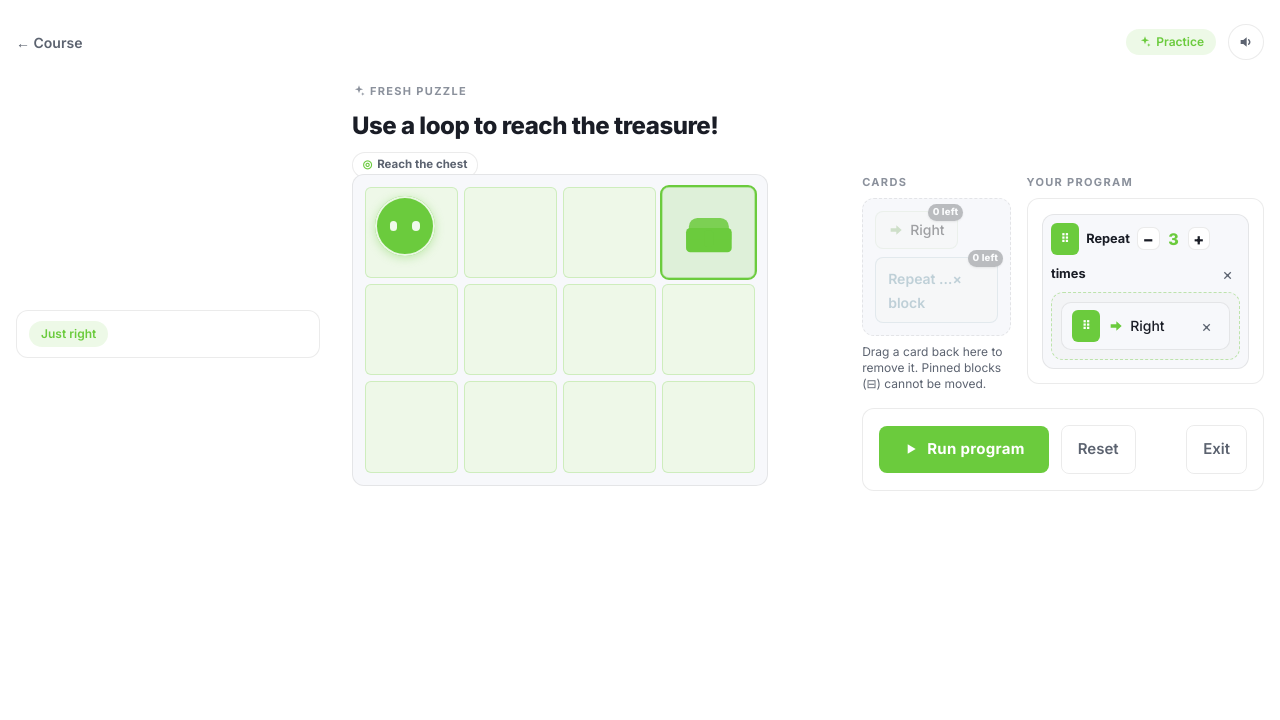
PracticePage (one-ahead prefetch) › serves a prefetched puzzle on "Next puzzle" without a second loading state
Check: the text "Repeat …× block" is shown, box [888,270,962,311]
Click the button "Run program": (964, 449) [879,426,1049,473]
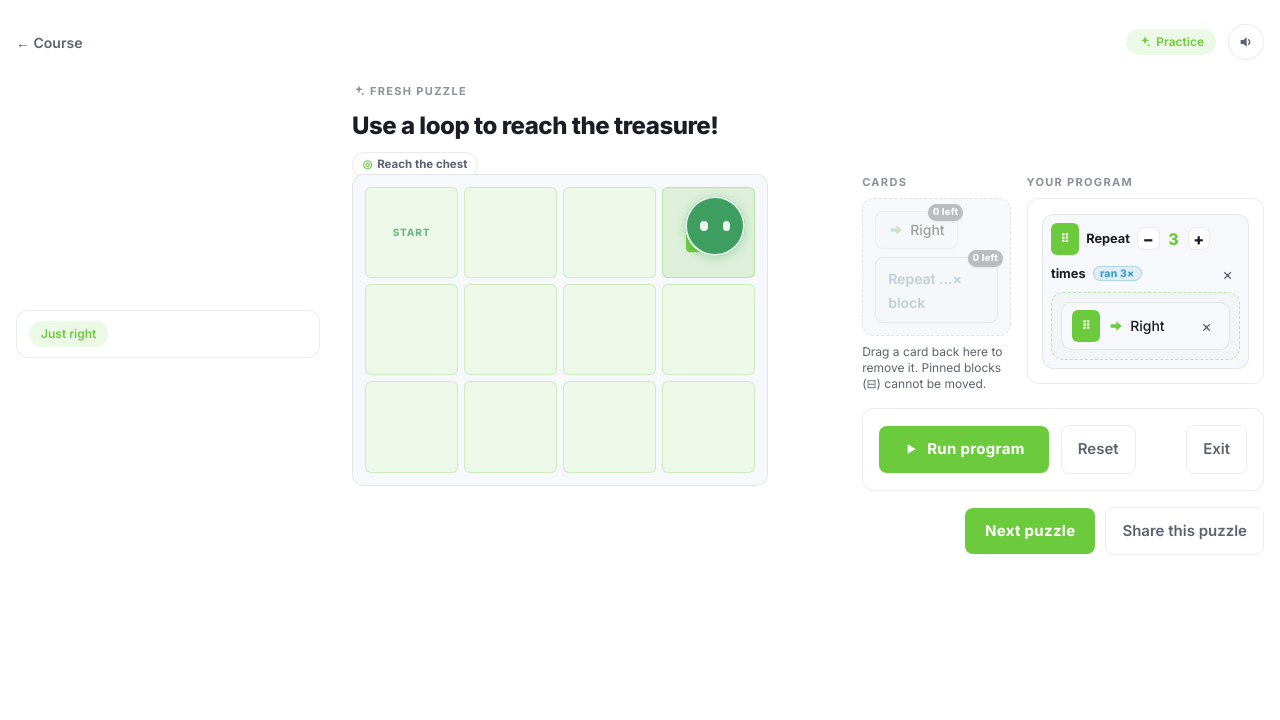
Check: the button "Next puzzle" is shown
Click the button "Next puzzle": (1030, 531) [965,508,1095,554]
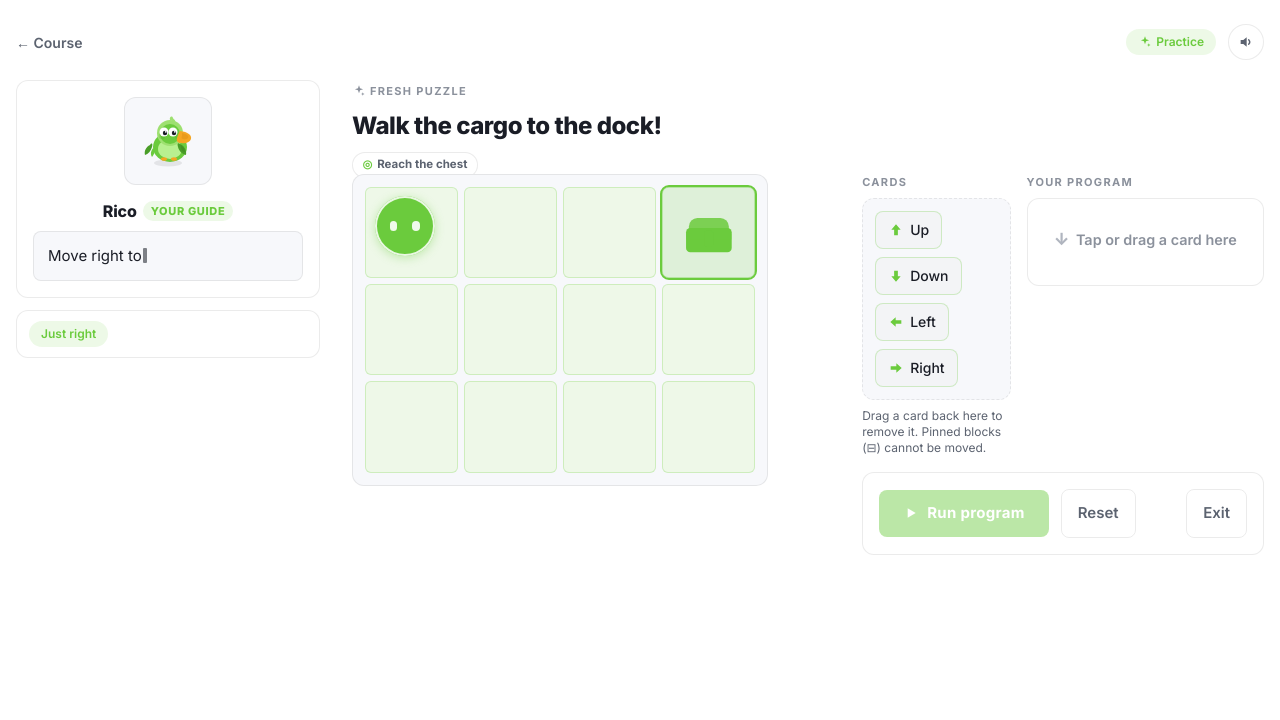
Check: the heading "Walk the cargo to the dock!" is shown, box [352,111,662,140]
